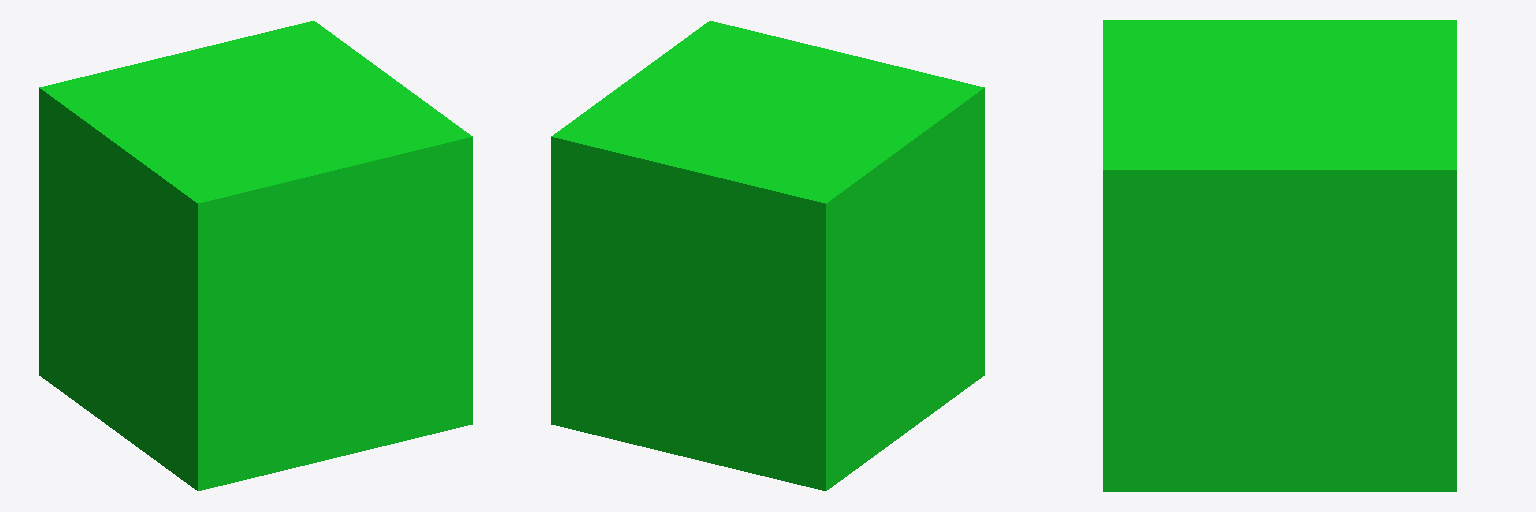
robot.urdf — friendly_target:
<?xml version="1.0"?>
<!--
  friendly_target.urdf — PyBullet URDF for friendly targets.

  Mesh source: CesiumGS Box.glb converted to OBJ (Apache 2.0)
  https://github.com/CesiumGS/cesium

  A simple cube used as a friendly marker, coloured green.
  Raw mesh extent = 1 × 1 × 1 m.  Scaled to 2.0 m.
-->
<robot name="friendly_target">

  <link name="base_link">

    <inertial>
      <mass value="0.0"/>
      <origin xyz="0 0 0" rpy="0 0 0"/>
      <inertia ixx="0" ixy="0" ixz="0" iyy="0" iyz="0" izz="0"/>
    </inertial>

    <visual>
      <!-- Z-offset = half of mesh height so the model sits on the ground plane -->
      <origin xyz="0 0 1.0" rpy="0 0 0"/>
      <geometry>
        <mesh filename="../meshes/box.obj" scale="2.0 2.0 2.0"/>
      </geometry>
      <material name="friendly_green">
        <color rgba="0.1 0.9 0.2 0.85"/>
      </material>
    </visual>

    <collision>
      <origin xyz="0 0 1.0" rpy="0 0 0"/>
      <geometry>
        <box size="2.0 2.0 2.0"/>
      </geometry>
    </collision>

  </link>

</robot>

--- Facts derived from the render (not from the file) ---
3 views of the same robot in one strip: view 1: azimuth 30°, elevation 25°; view 2: azimuth 150°, elevation 25°; view 3: azimuth 270°, elevation 25° (orthographic).
Robot: friendly_target — 1 links, 0 joints (none); root link base_link; default pose: all joints at 0.
Visible links, largest first — view 1: base_link; view 2: base_link; view 3: base_link.
Boxes of the visible links, bbox=[...] form: base_link: bbox=[39, 21, 472, 490]; base_link: bbox=[551, 21, 984, 490]; base_link: bbox=[1103, 20, 1456, 491].
Size in the robot's own frame: 2 by 2 by 2 metres.
Meshes: 1 distinct files referenced, 1 mesh visuals loaded (1 OBJ).
